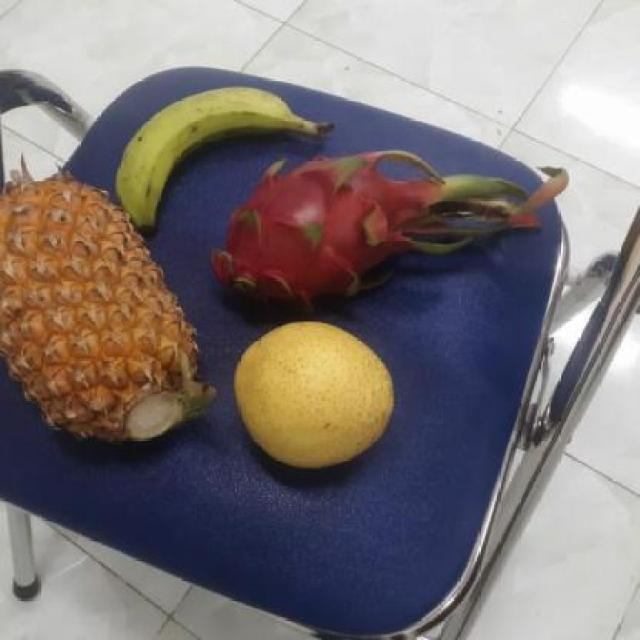banana: (113, 80, 305, 232)
dragon fruit: (203, 150, 434, 316)
pear: (226, 325, 397, 469)
pineapple: (1, 178, 207, 444)
